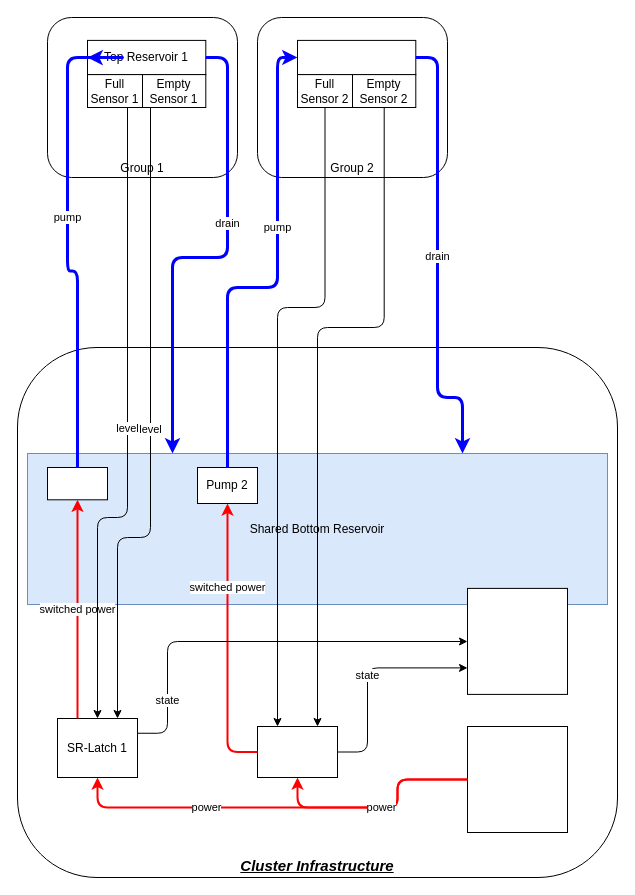
This 635x895 diagram has some shape labels left out. Here are the shapes that lost their labels. From the top down, the centre of each, then its label:
(356,57): Top Reservoir 2
(77,483): Pump 1
(517,640): ESP32 Controller
(297,752): SR-Latch 2
(517,779): 12V Battery
